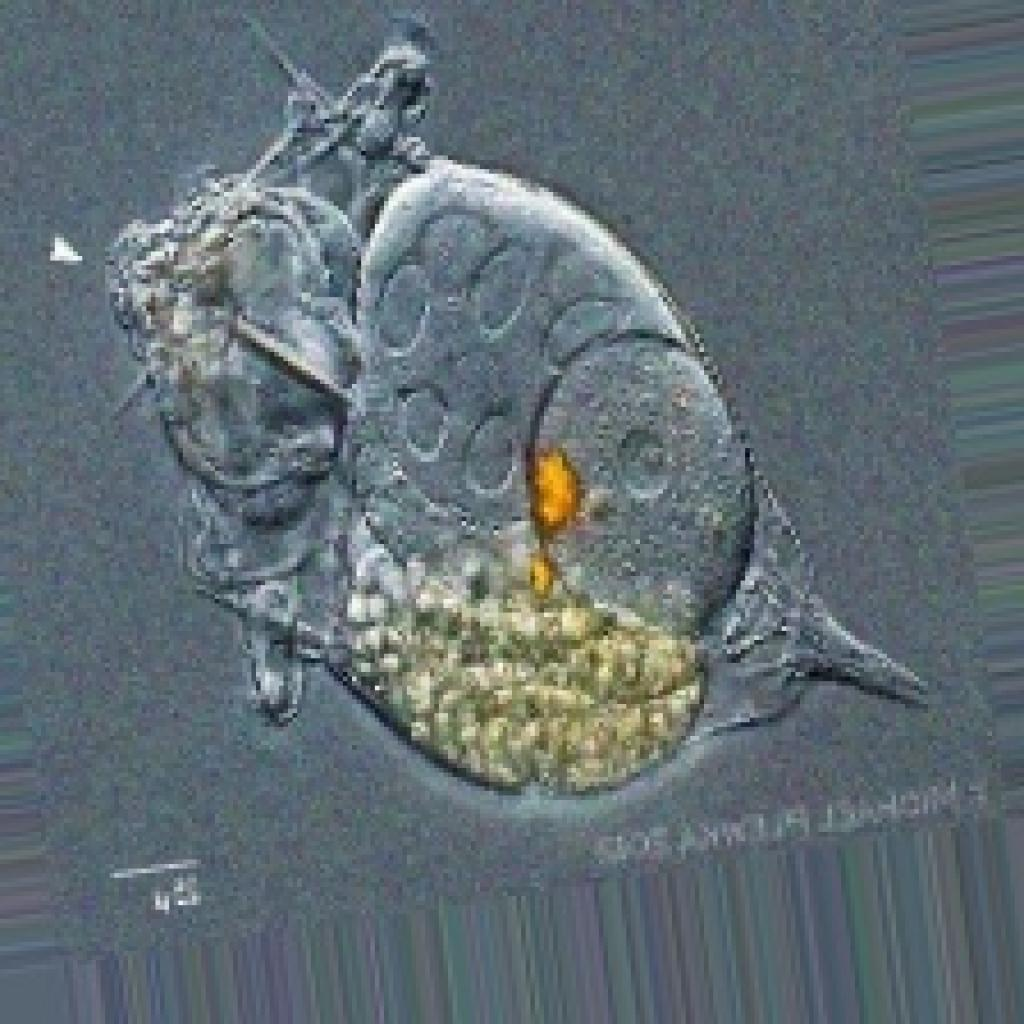Rotifer: (96, 9, 933, 805)
